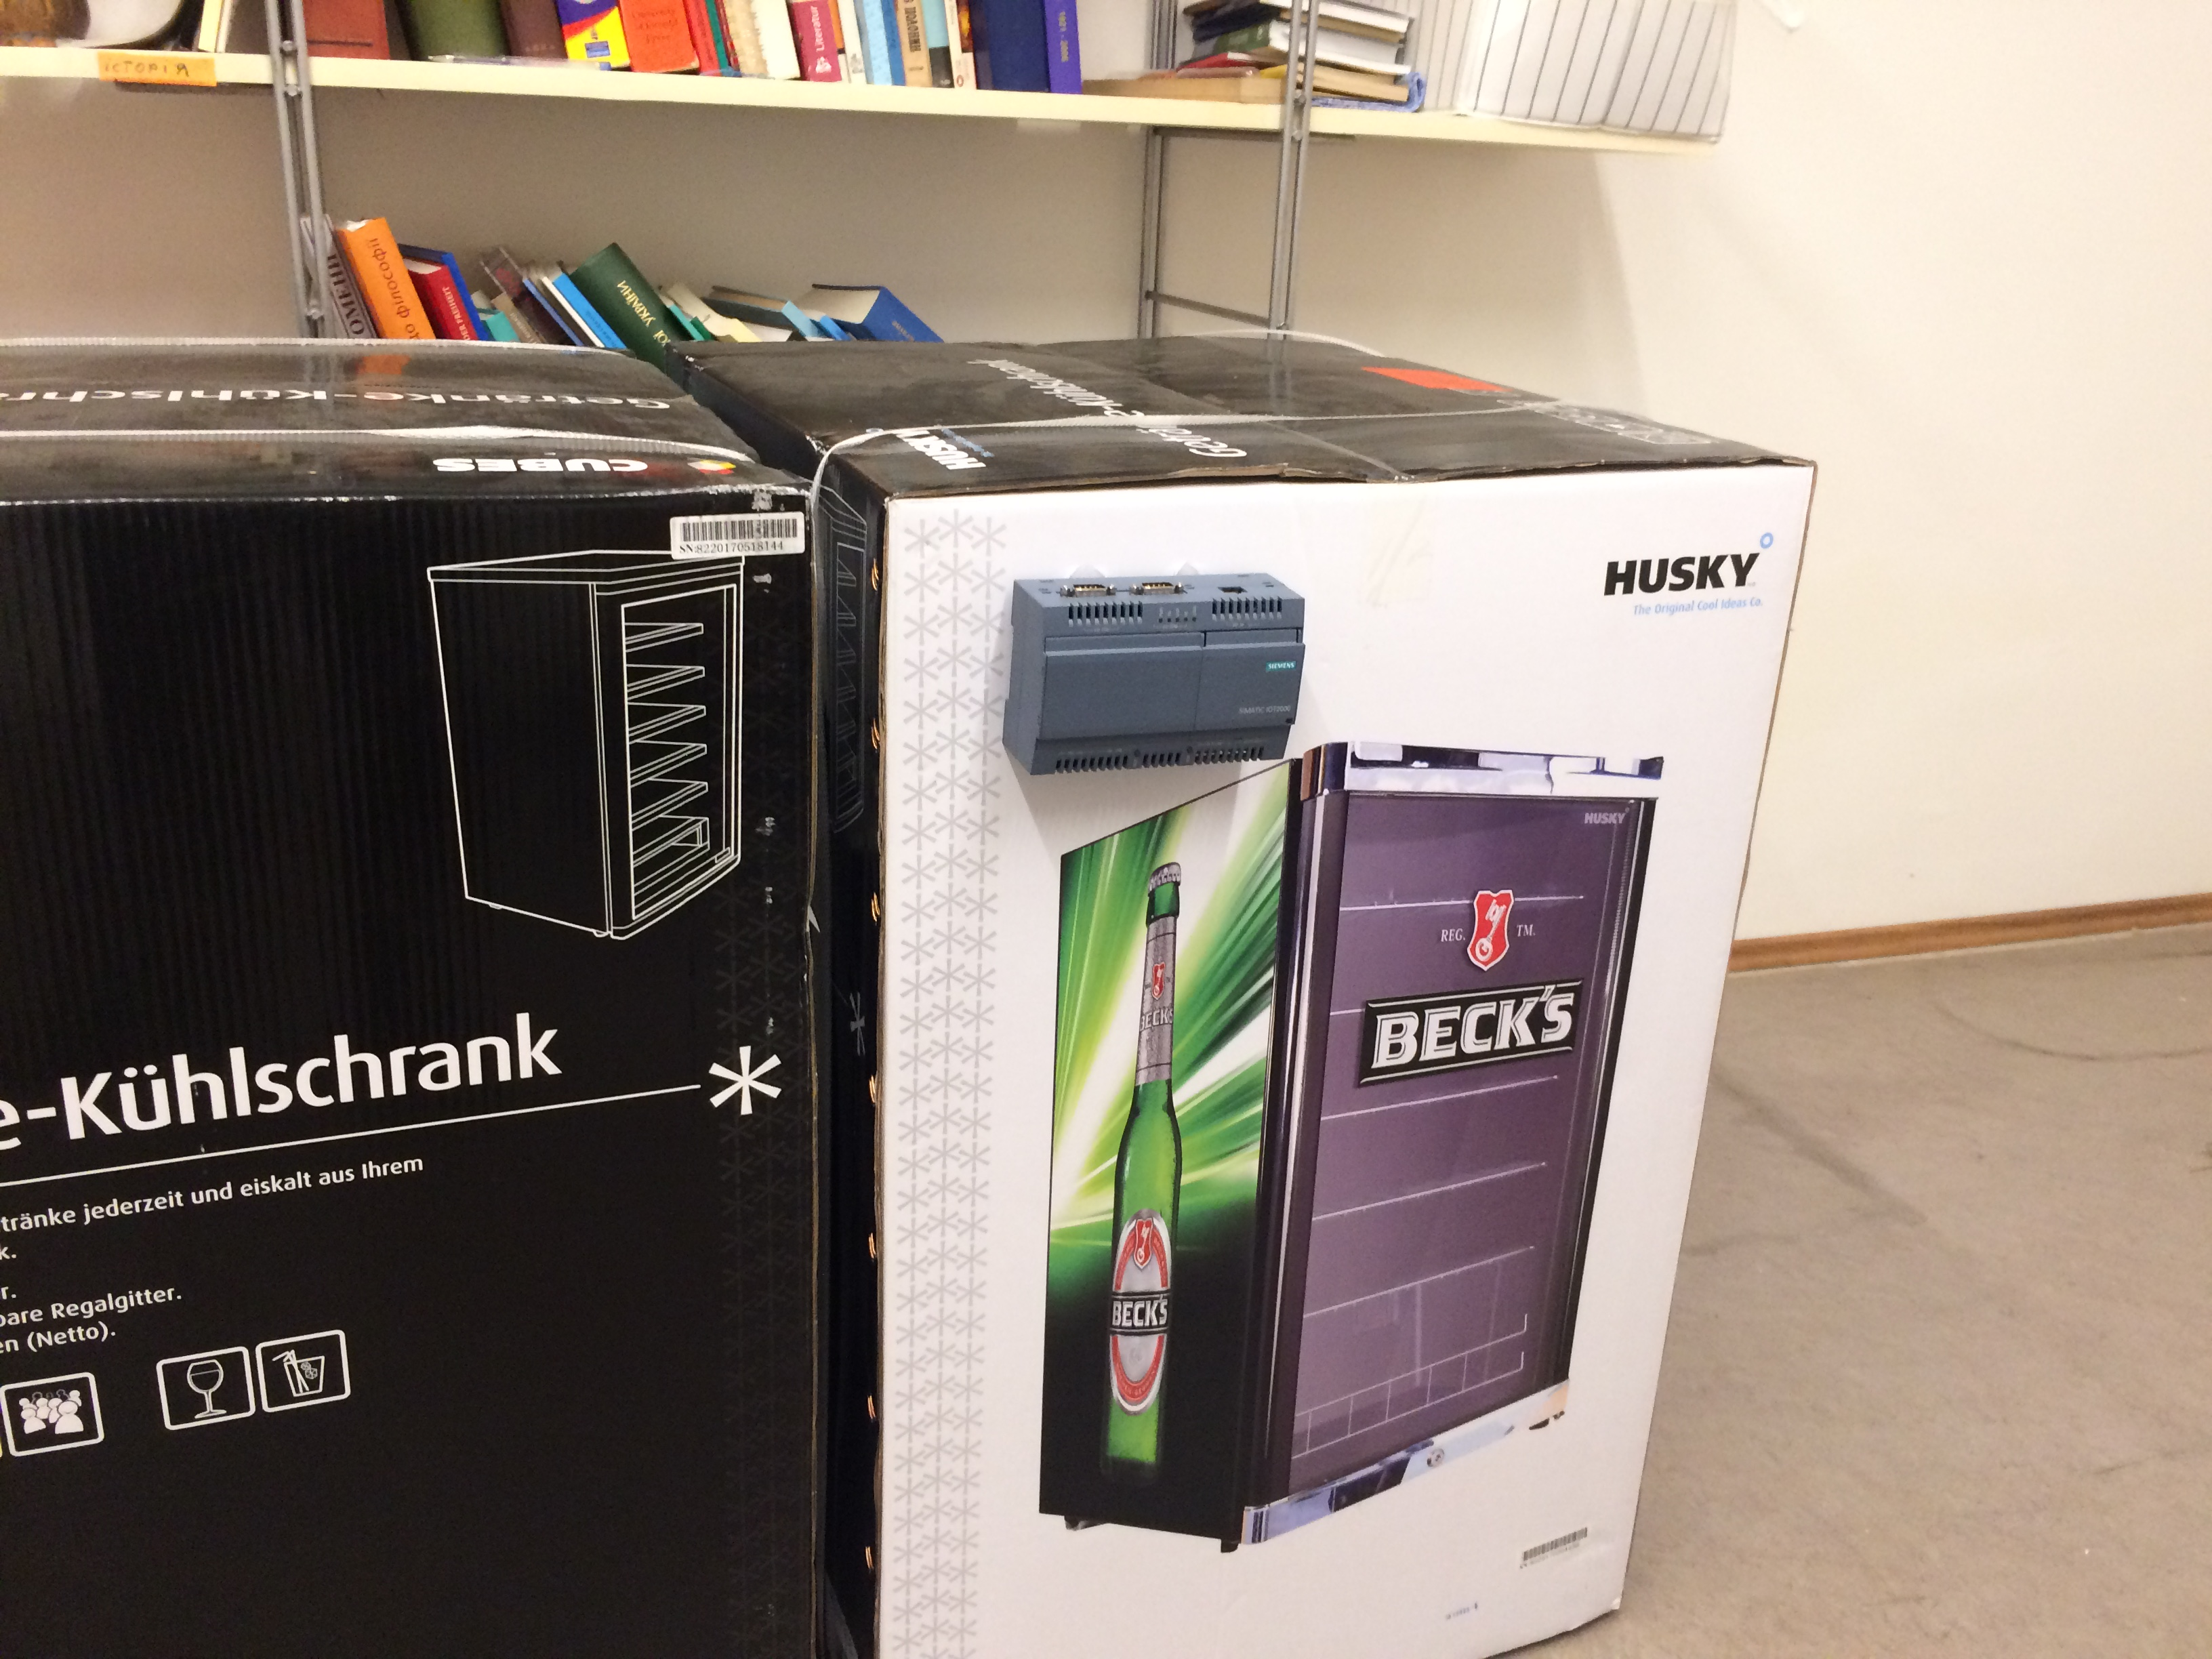iot2000: (1000, 570, 1308, 779)
